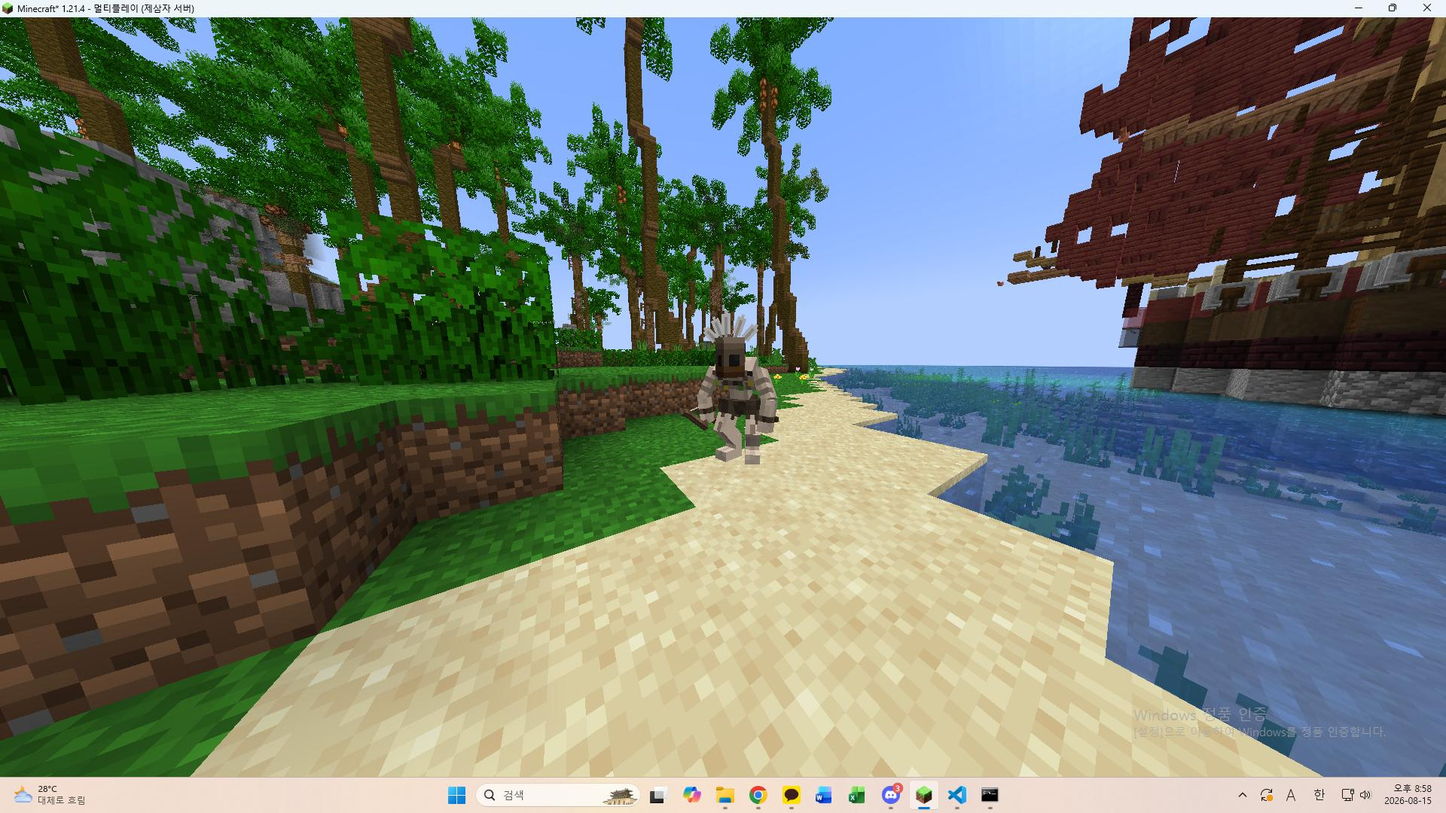bow_indian: (668, 306, 804, 482)
